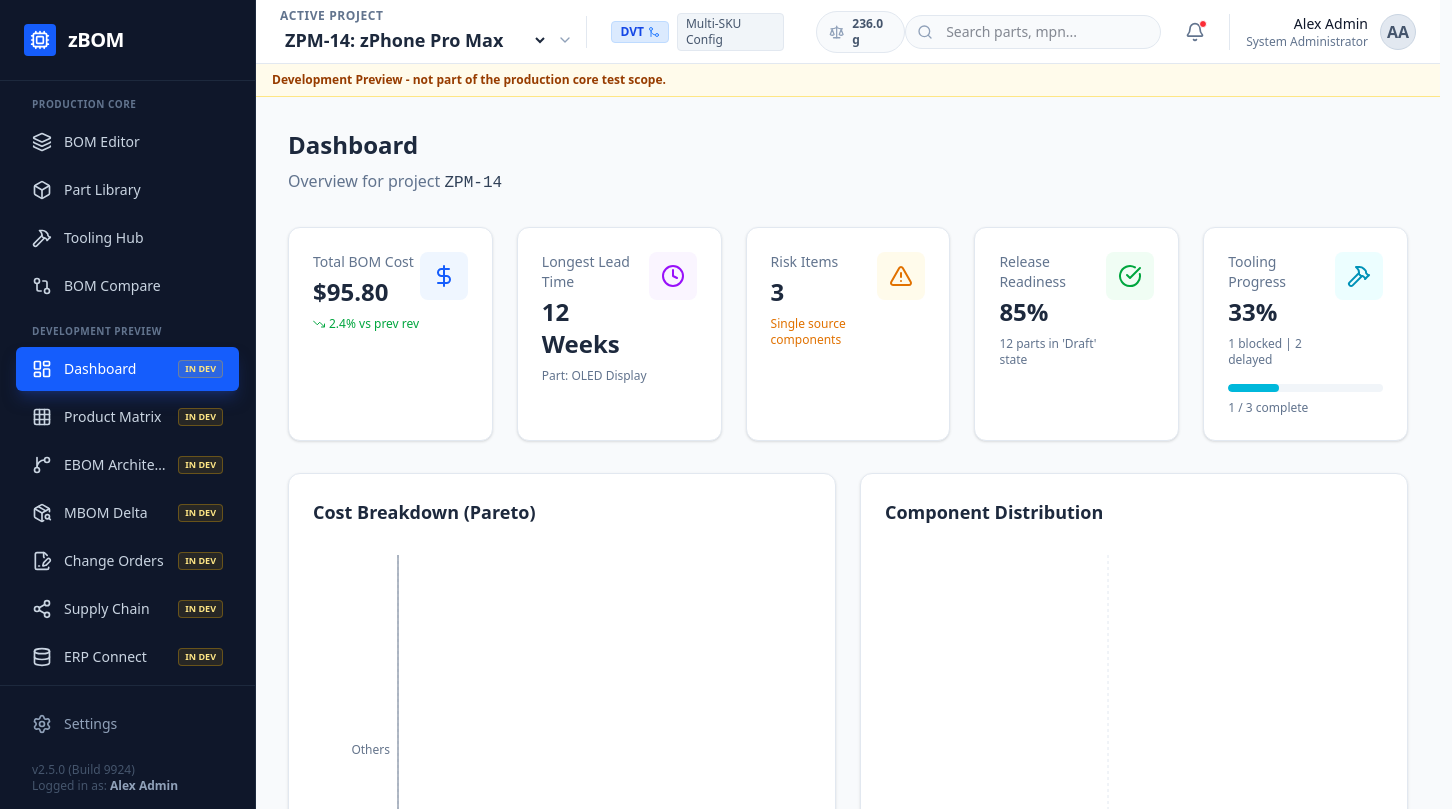
Test: App phase 1 navigation › navigates from Tooling Hub concrete parts into filtered Part Library context
Step 1. Click the button "Tooling Hub" → (128, 238), box [16,216,239,260]
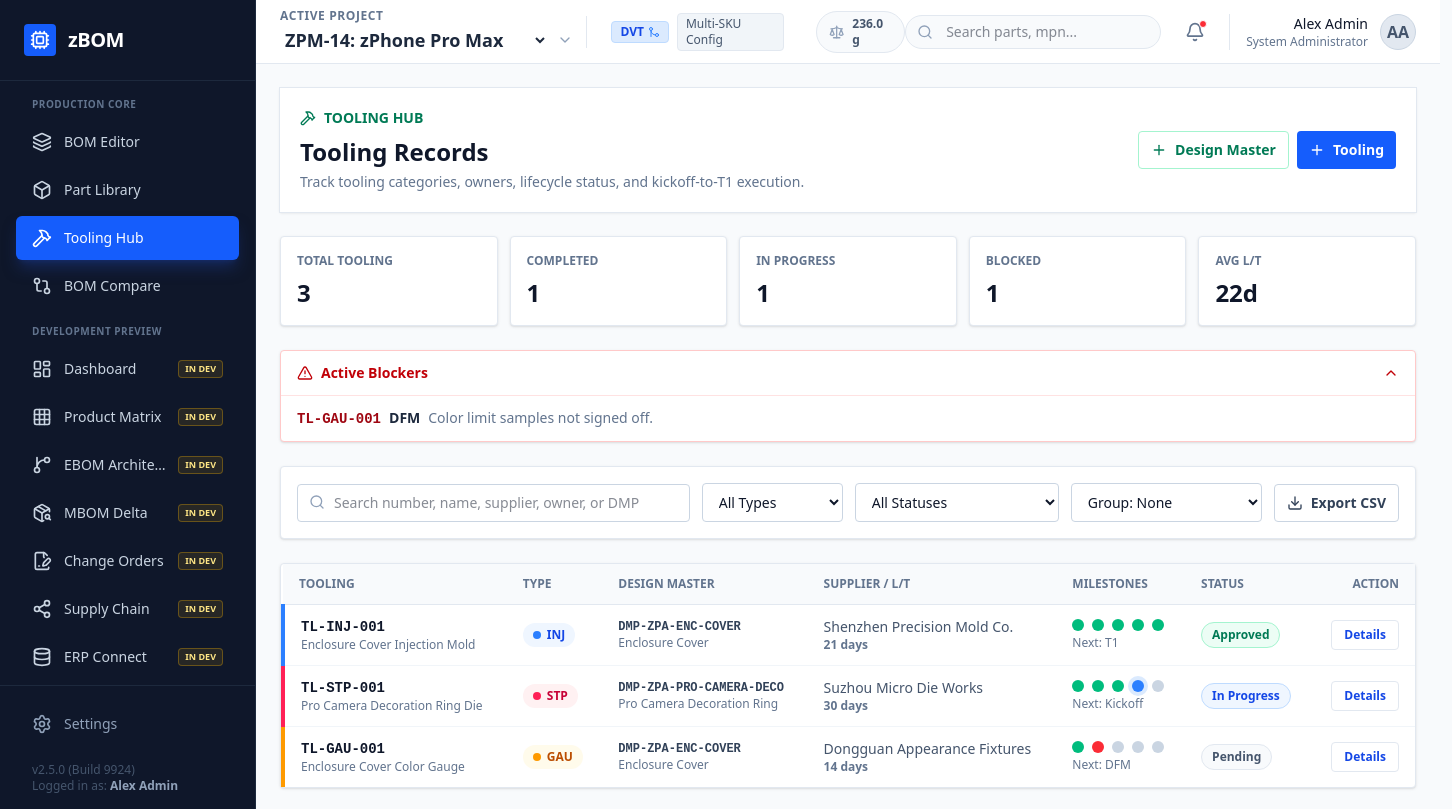
Check: the heading "Tooling Records" is shown, box [300,135,488,168]
Step 2. Click the button "Details" in the row of "TL-INJ-001" → (1365, 635), box [1331,620,1399,650]
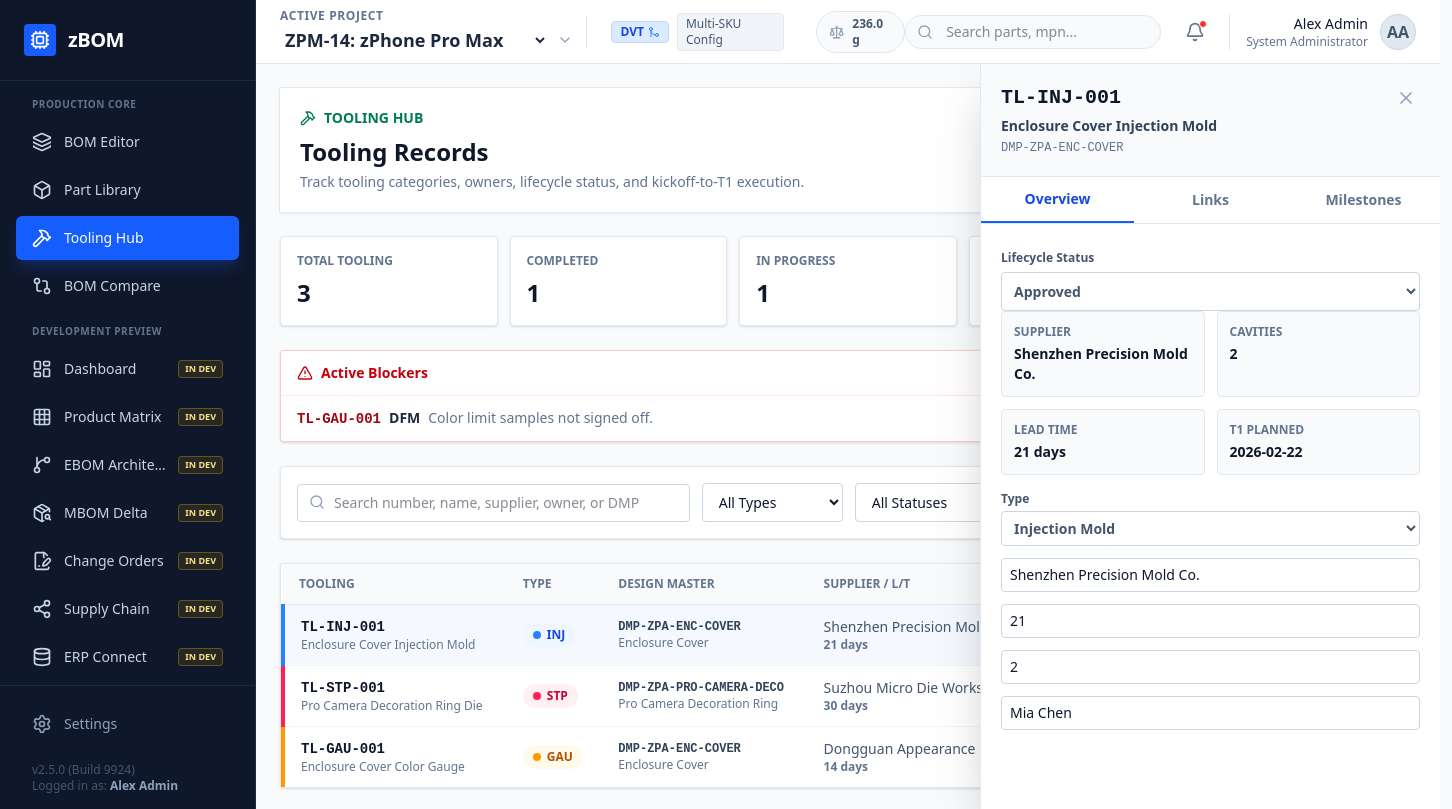
Step 3. Click the button "links" → (1210, 200), box [1134,177,1287,223]
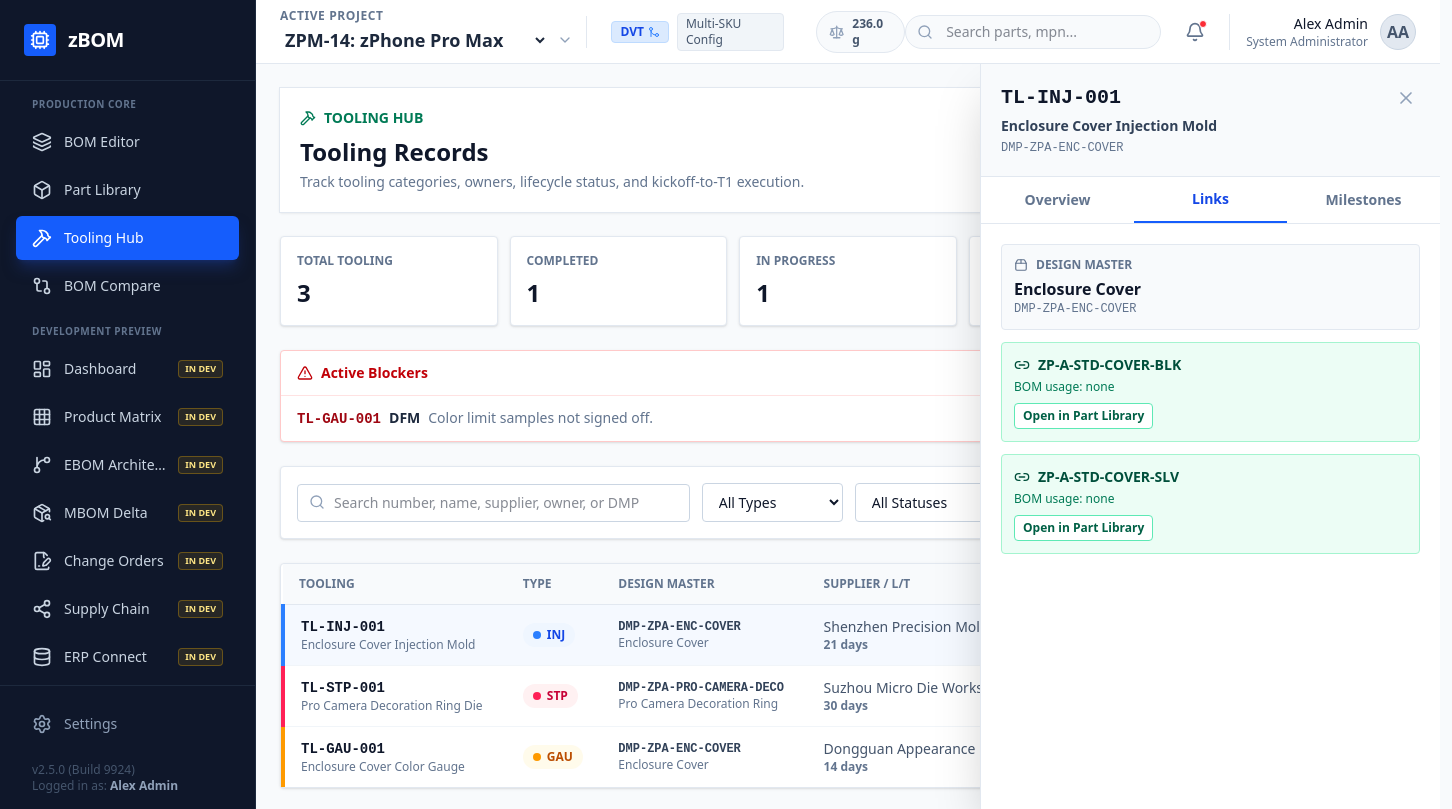
Step 4. Click the button "Open in Part Library" below "ZP-A-STD-COVER-BLK" → (1084, 416), box [1014,403,1153,429]
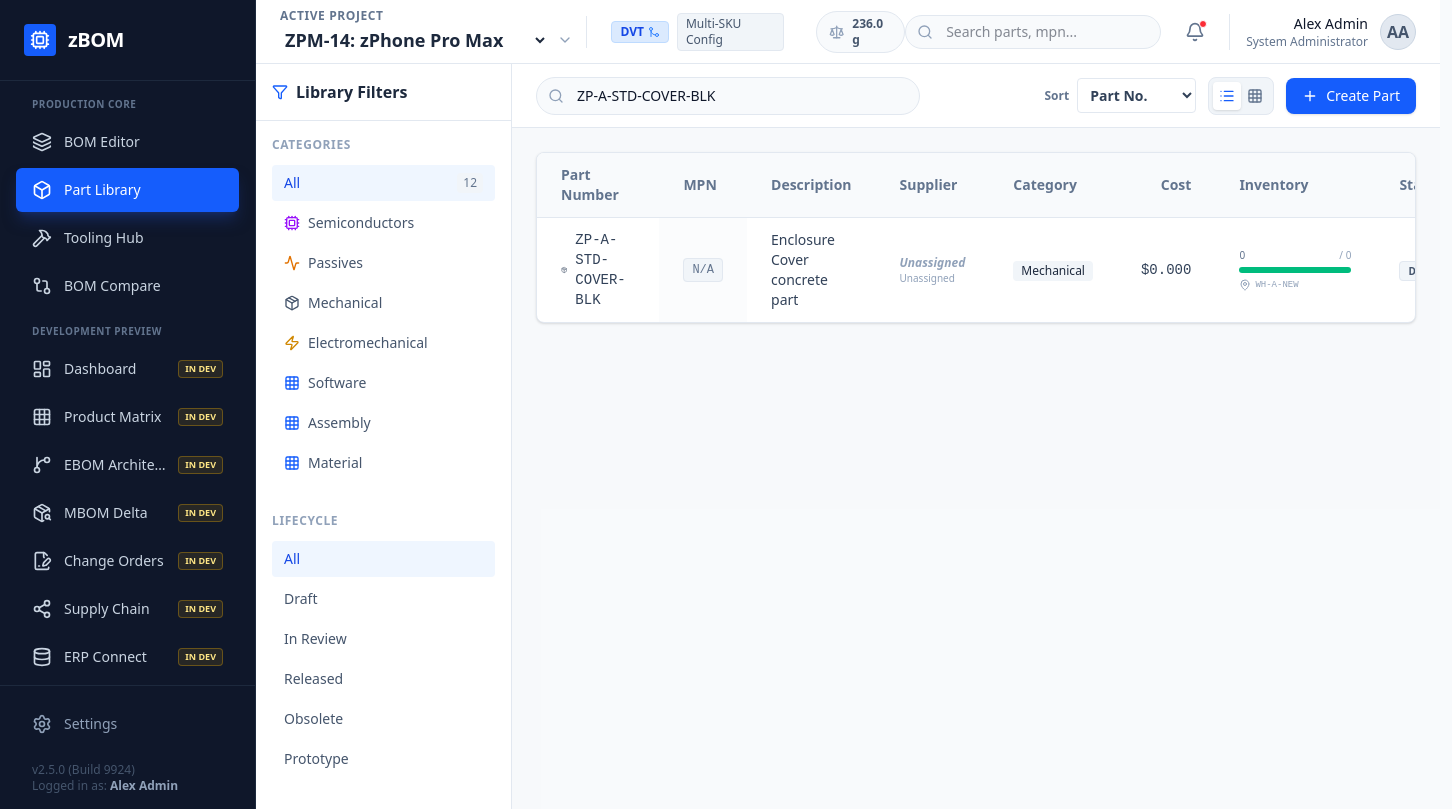
Check: the heading "Library Filters" is shown, box [272,81,407,103]
Check: the field showing "ZP-A-STD-COVER-BLK" is shown, box [536,76,920,114]
